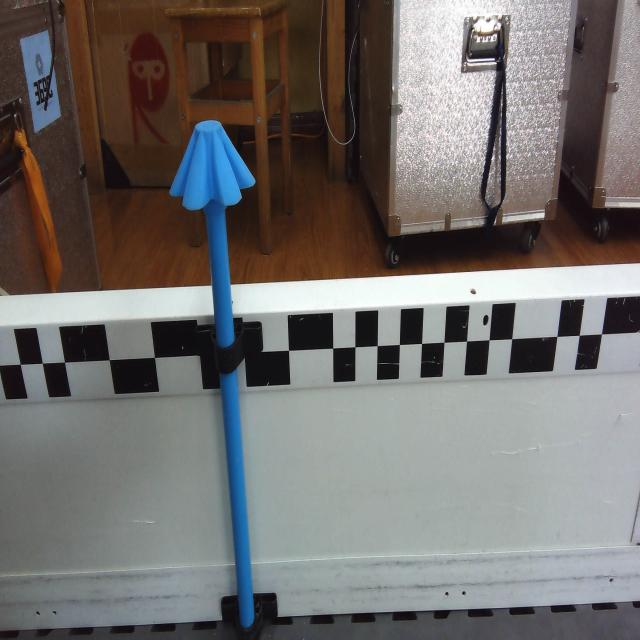zblue-Stake-Head: (170, 115, 255, 212)
